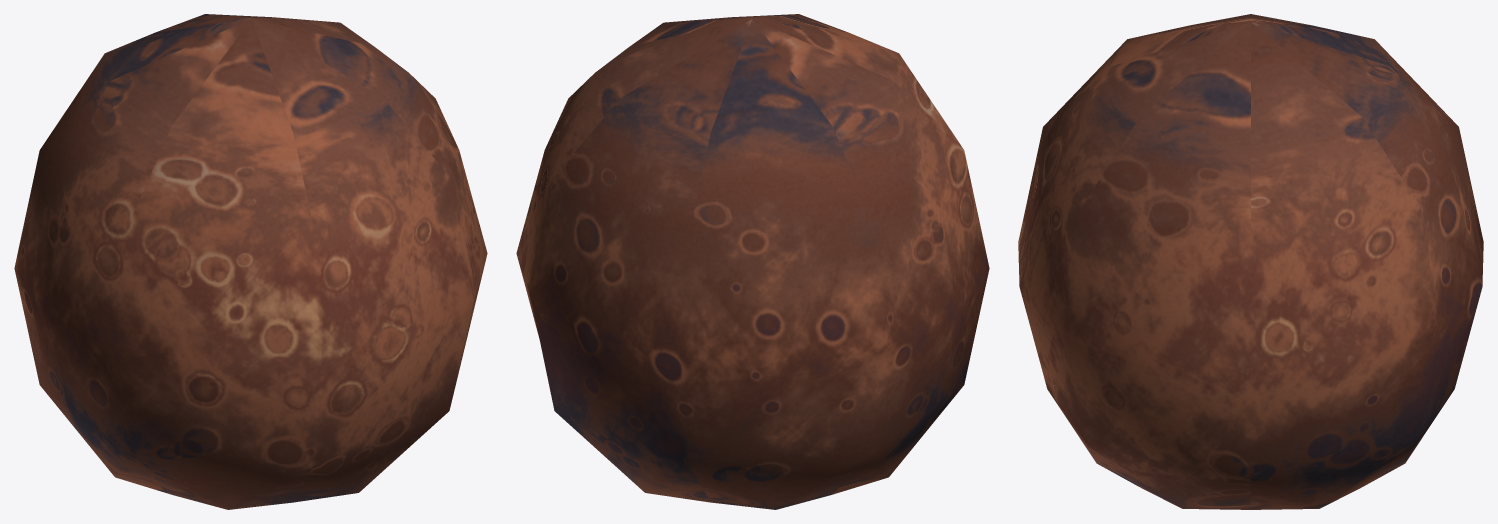
File: Planet12.fbx
3 views of the same model, side by side, from view 1: azimuth 30°, elevation 25°; view 2: azimuth 150°, elevation 25°; view 3: azimuth 270°, elevation 25° (orthographic).
Parts seen in each view (by area): view 1: pasted__pSphere1; view 2: pasted__pSphere1; view 3: pasted__pSphere1.
Part boxes in pixels (x1,y1,x2,y2): pasted__pSphere1: (14, 14, 487, 509); pasted__pSphere1: (516, 14, 989, 509); pasted__pSphere1: (1018, 14, 1483, 509).
Size of the model in its own units: 1.56 by 1.76 by 1.53.
1 material, 1 textured.
